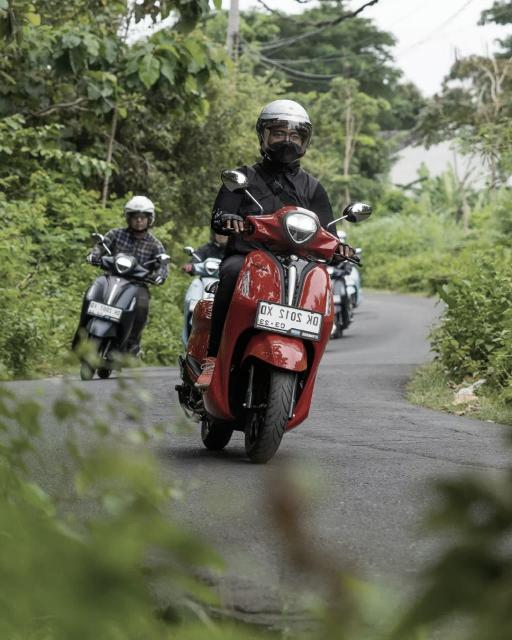helm: (256, 101, 314, 170), (120, 192, 160, 238)
motor: (185, 171, 375, 464), (63, 233, 174, 382)
